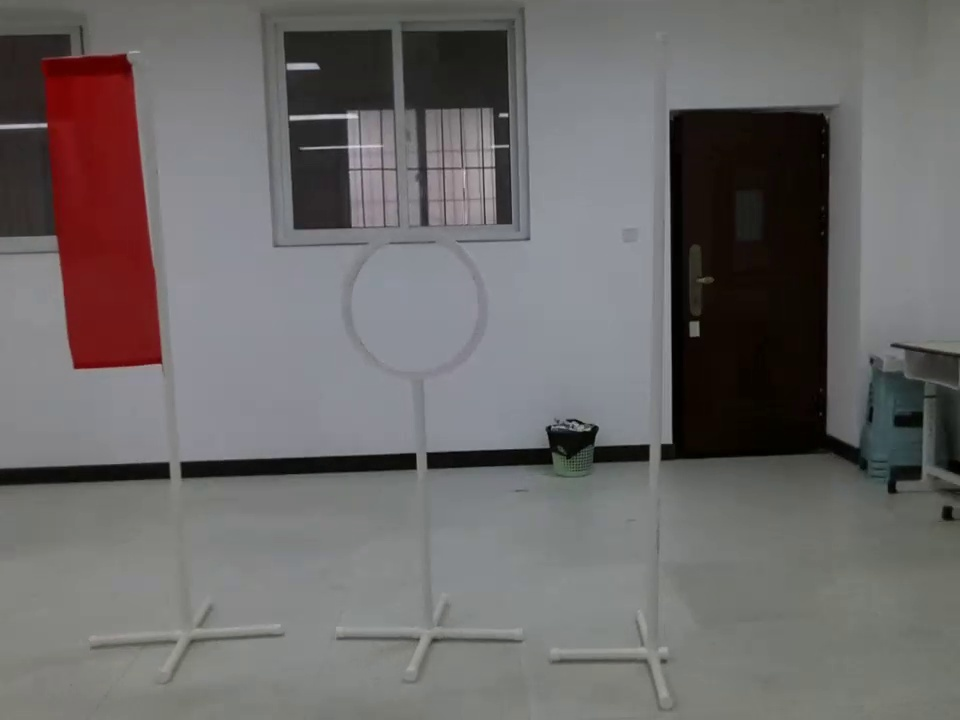gan: (642, 22, 687, 648)
qi: (26, 48, 165, 383)
quan: (322, 200, 507, 402)
